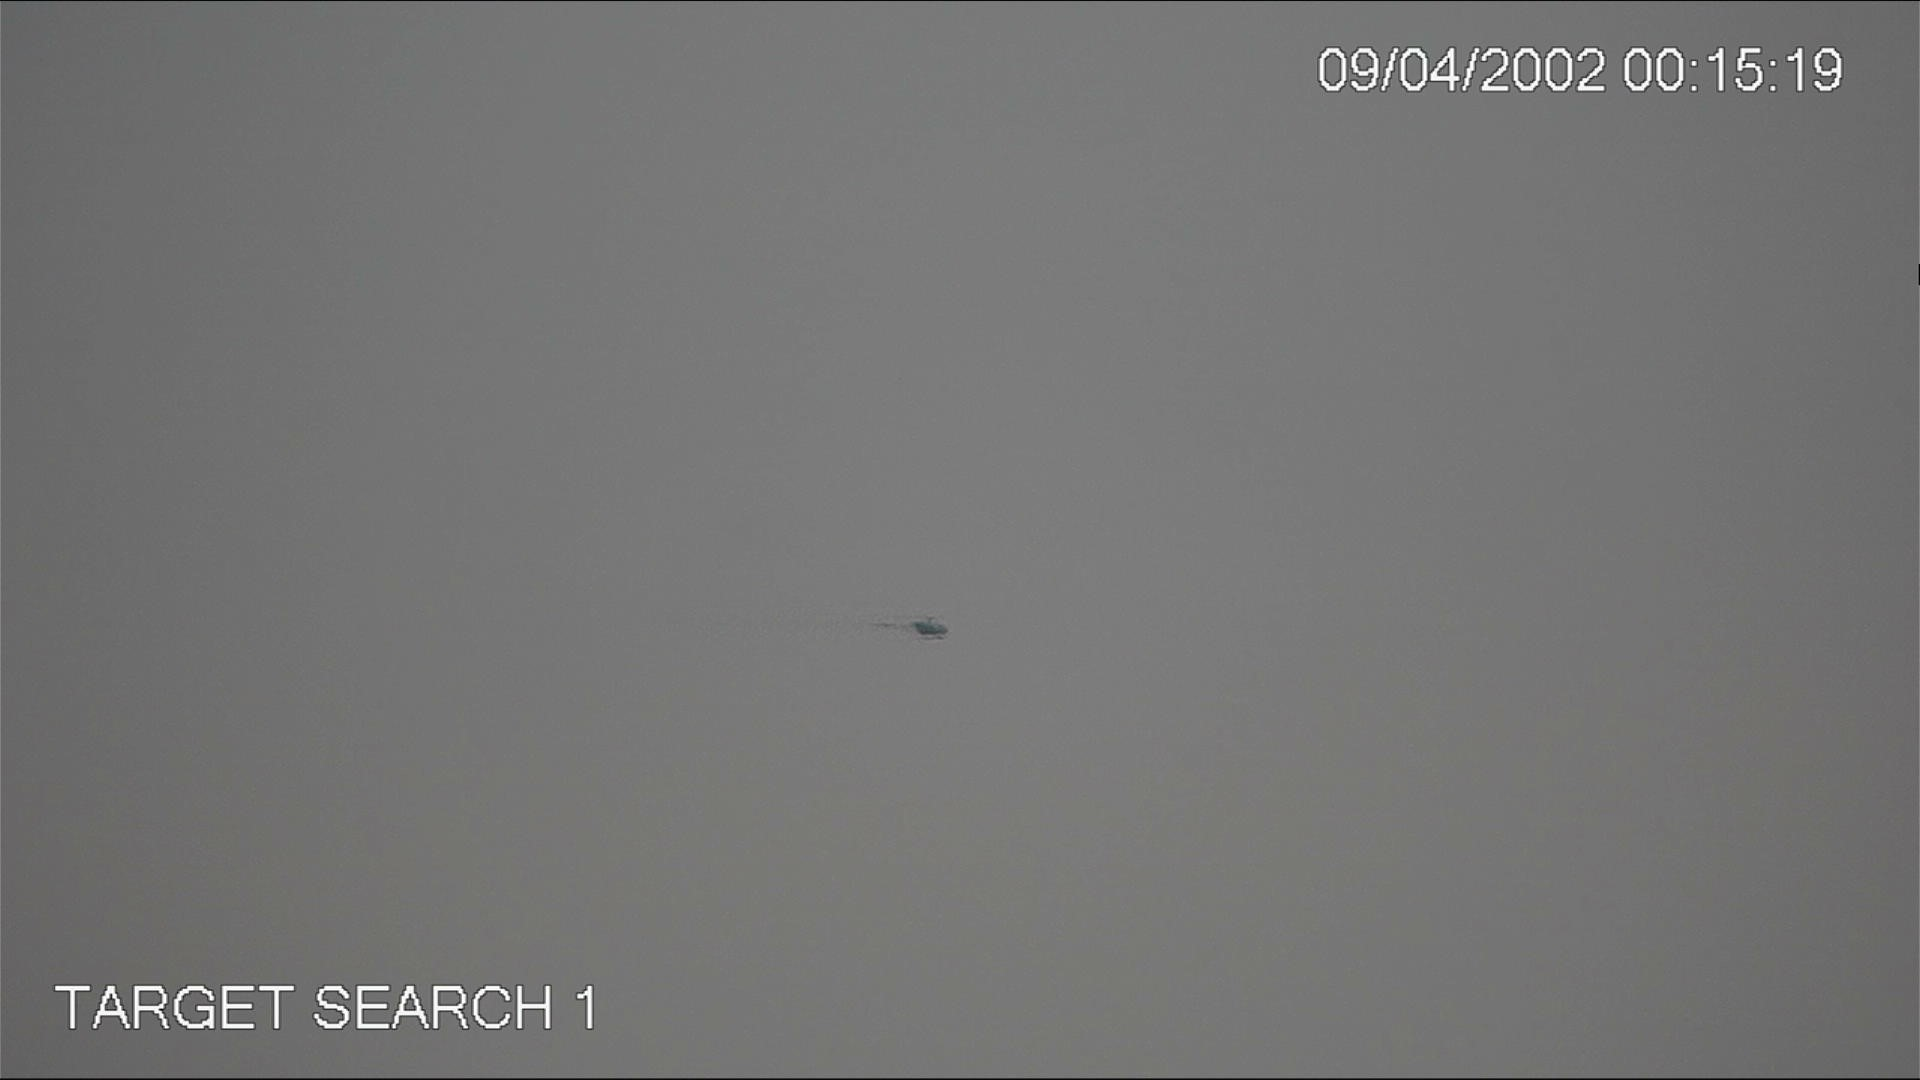SU_30: (880, 603, 959, 647)
